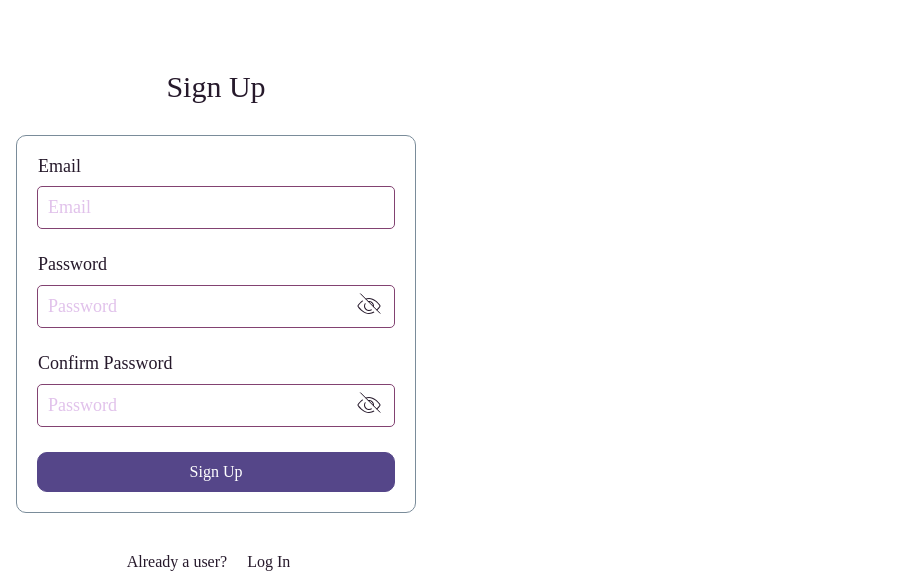
it: AuthForm Component › handles form submissions for the scenario where signup is successful
This screenshot has width=899, height=588.
Type "test@example.com" into the field labelled "Email" at (216,208), box x1=38 y1=187 x2=394 y2=228
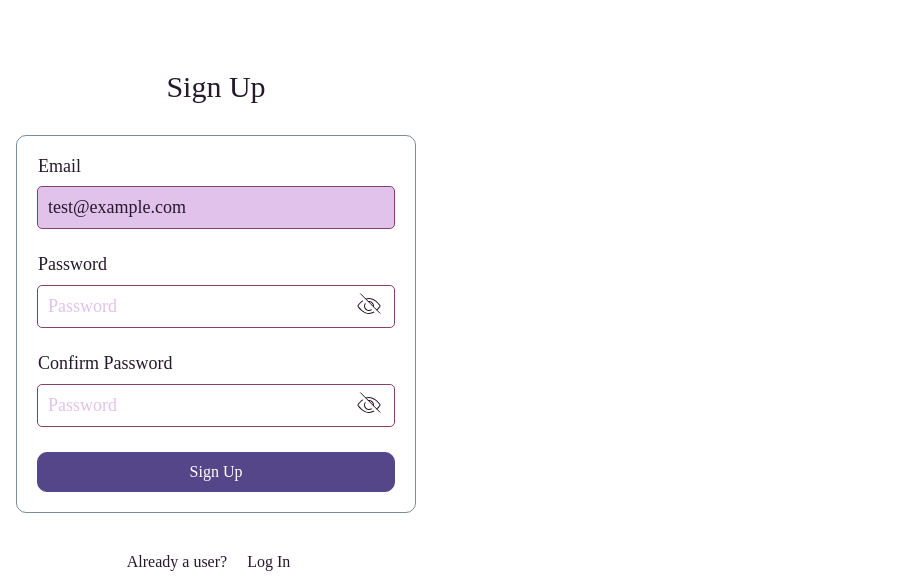
Type "correctPassword123!" into the password field labelled "Password" at (191,306), box x1=38 y1=286 x2=344 y2=327
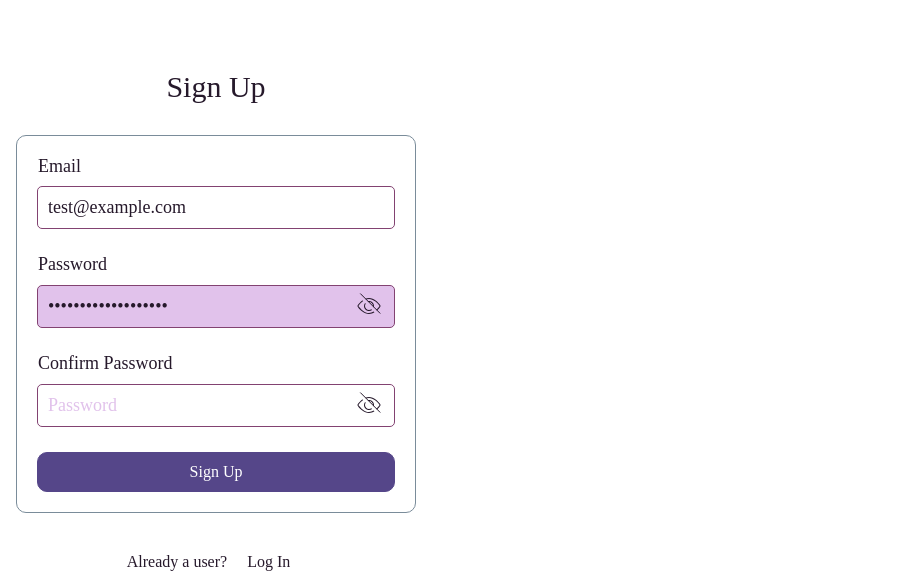
Type "correctPassword123!" into the password field labelled "Confirm Password" at (191,405), box x1=38 y1=385 x2=344 y2=426
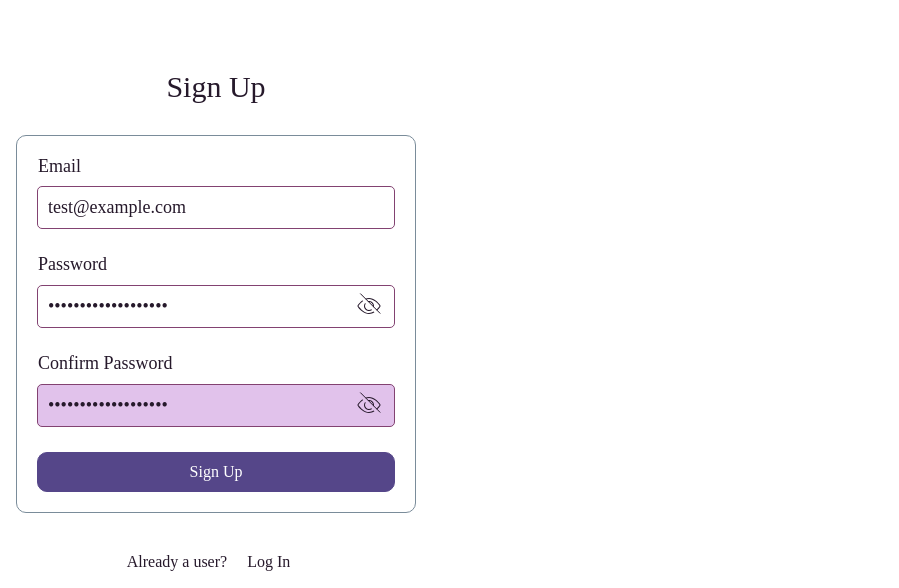
Click the button "Sign Up" at (216,472), box x1=37 y1=452 x2=395 y2=492
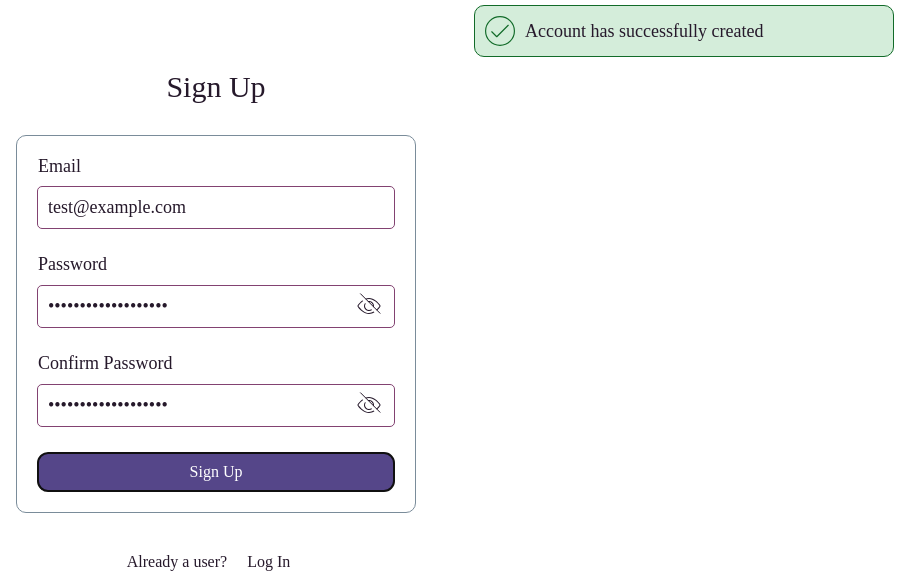
Result: the picture with alt text "notification" is shown at x1=485 y1=16 x2=515 y2=46
Result: the text "Account has successfully created" is shown at x1=525 y1=21 x2=763 y2=41
